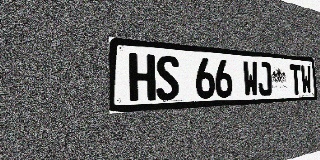6: (195, 57, 215, 99), (214, 59, 233, 98)
H: (129, 53, 156, 102)
J: (257, 62, 272, 96)
S: (156, 55, 180, 101)
T: (290, 64, 302, 95)
W: (243, 61, 258, 97), (301, 65, 312, 94)
